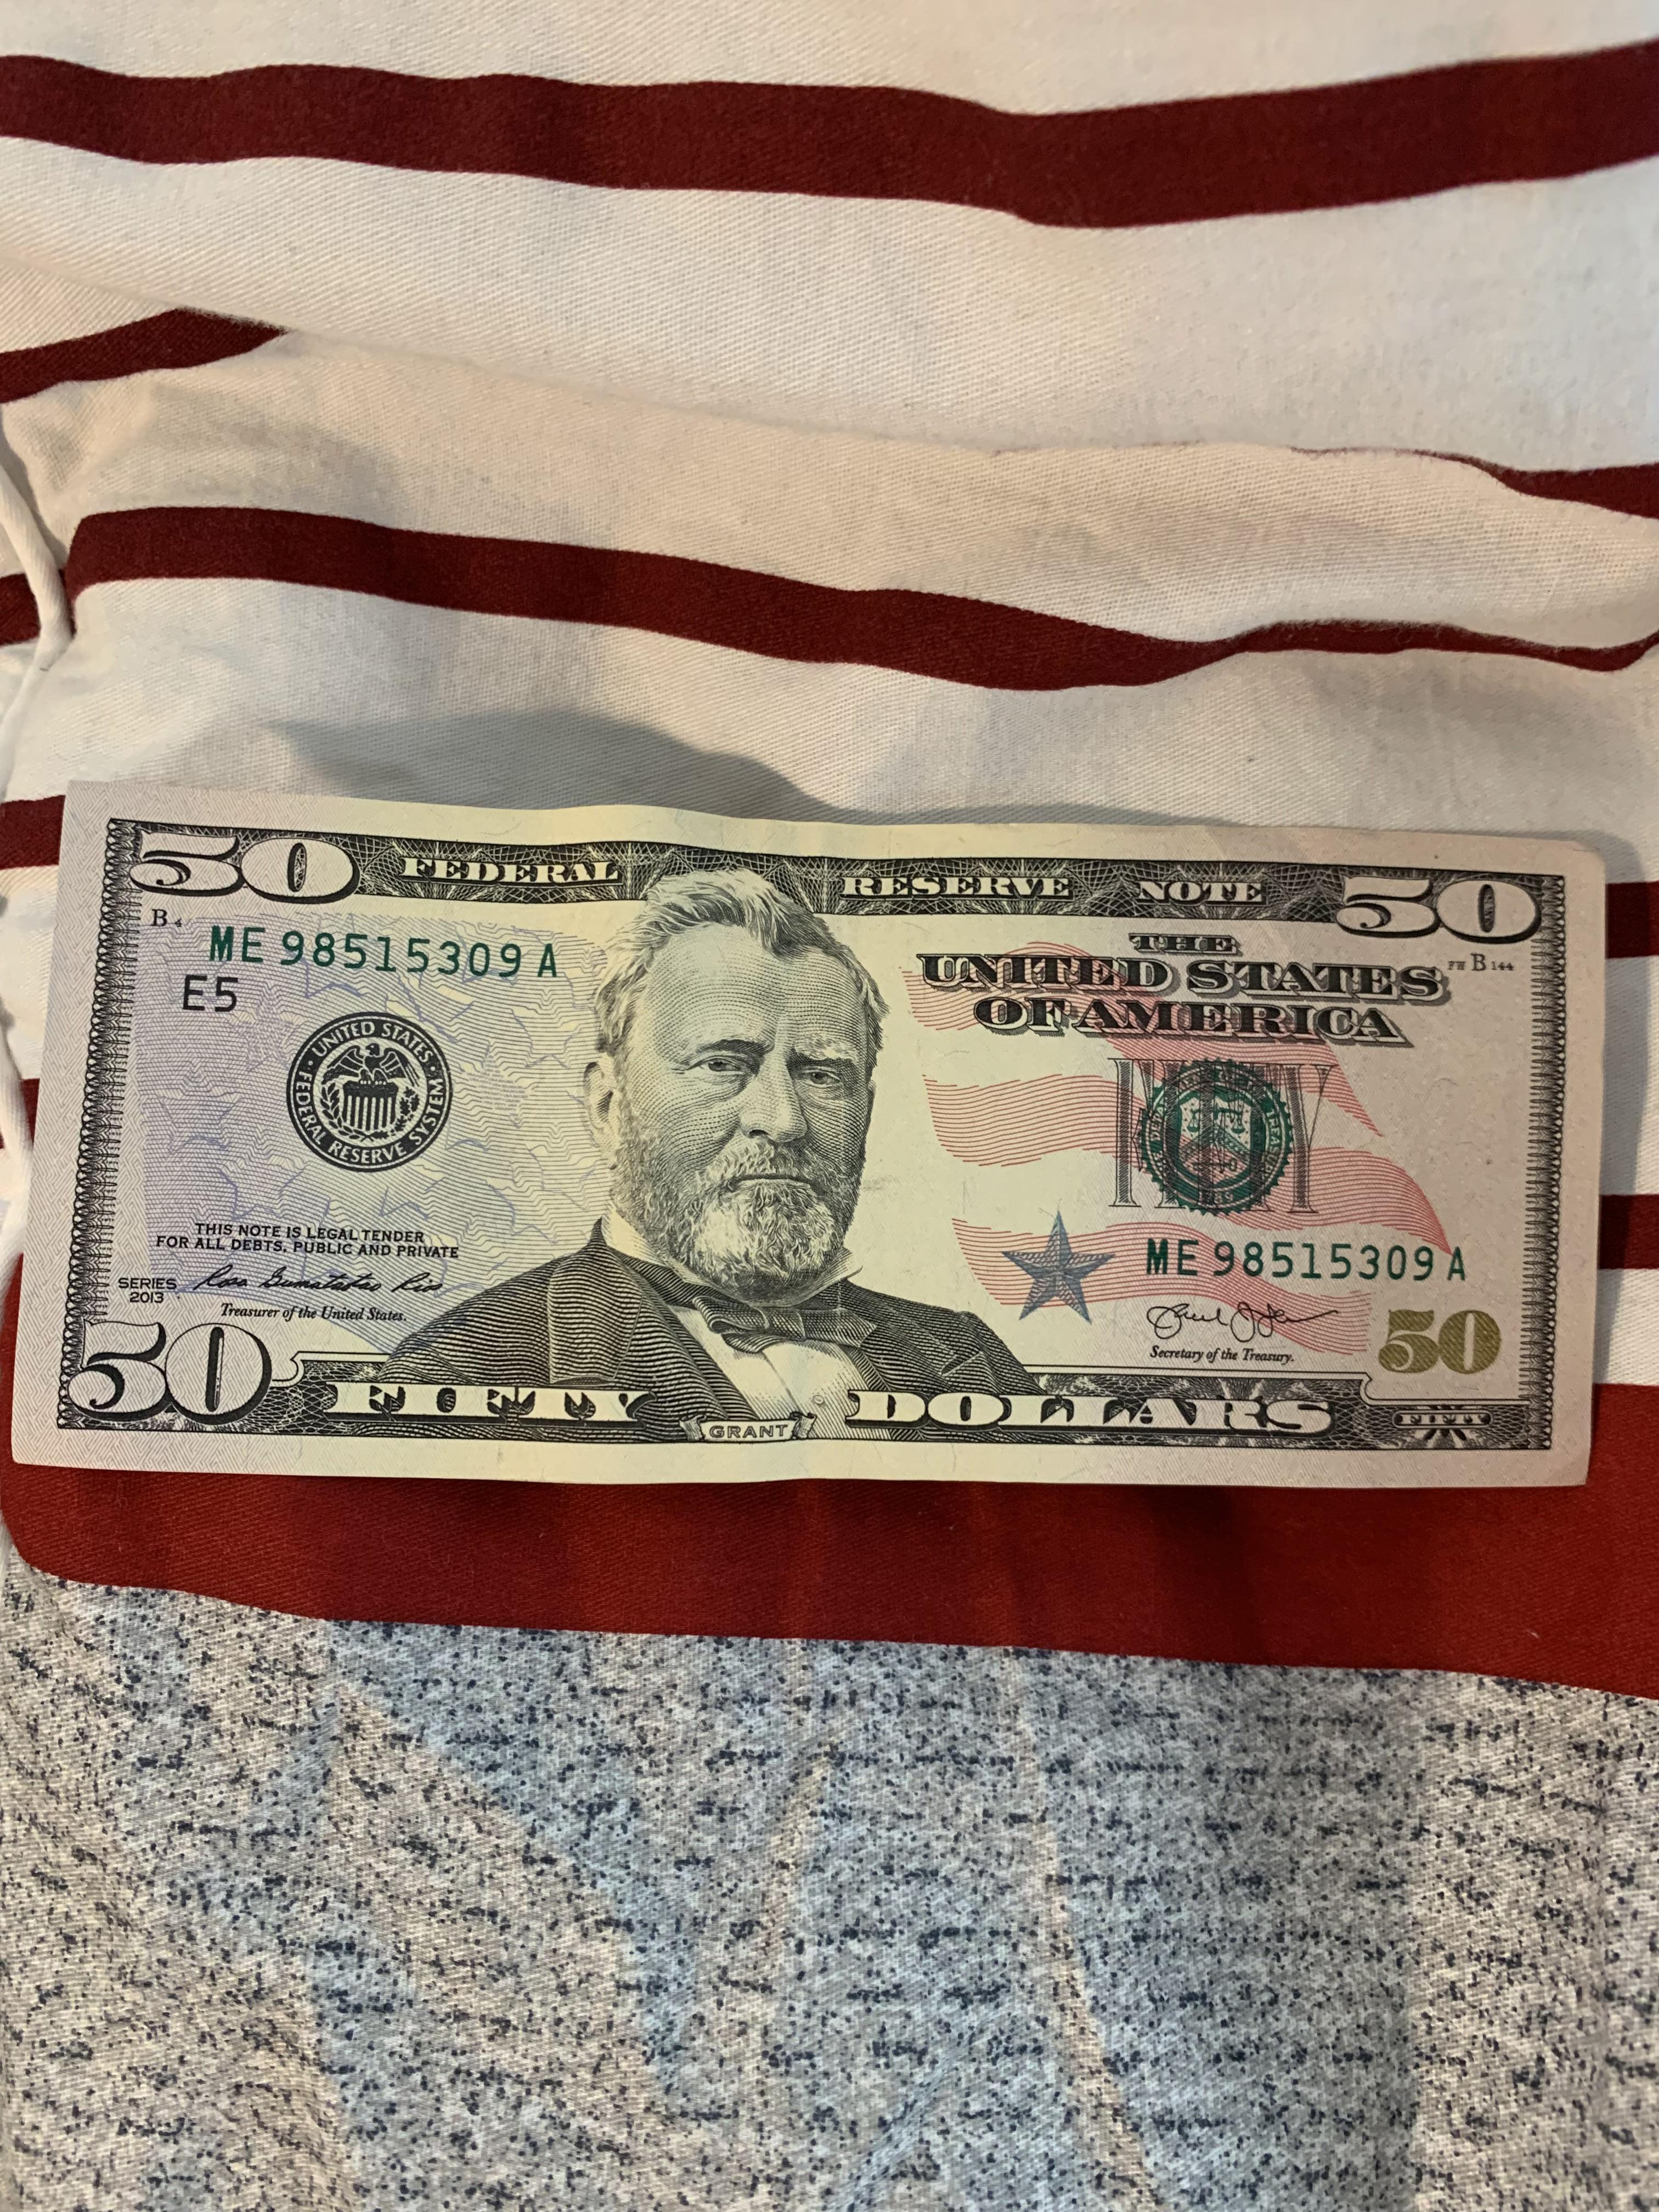FiftyBill: (10, 768, 1640, 1494)
